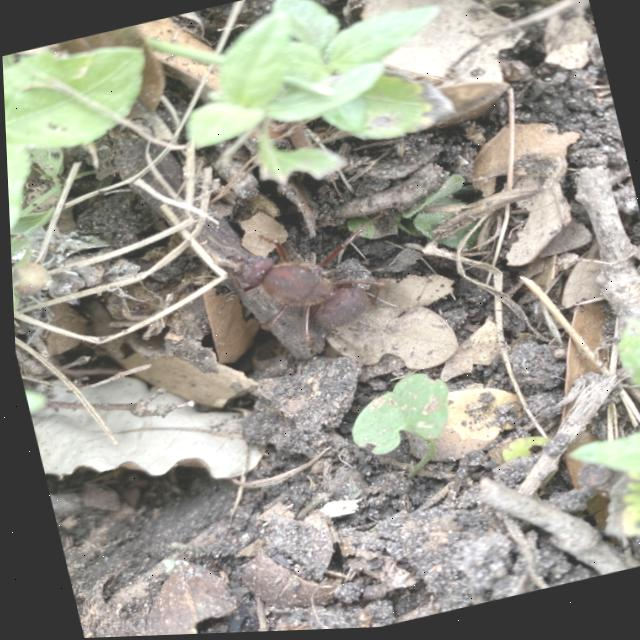Alive-Female-Dealate: (218, 211, 416, 371)
